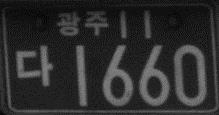0: (172, 42, 207, 107)
1: (74, 43, 88, 107), (117, 7, 129, 41), (142, 7, 152, 40)
6: (101, 42, 133, 107), (138, 43, 171, 106)
광주_O: (56, 10, 109, 37)
다: (15, 43, 53, 87)
